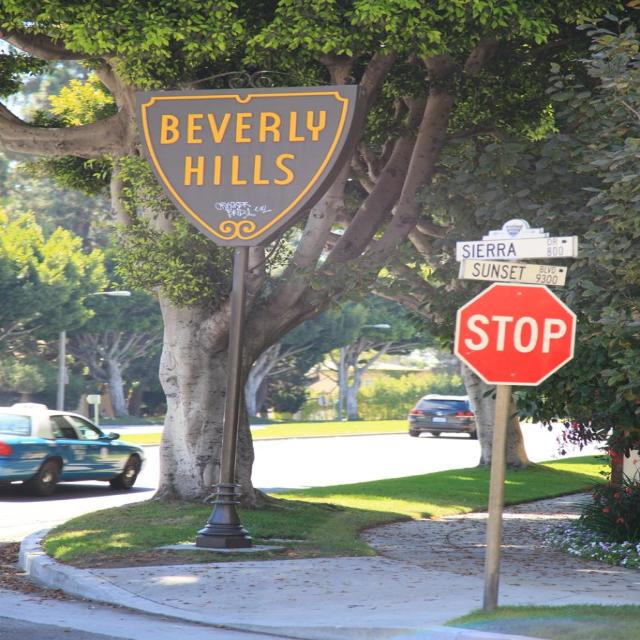Stop-sign: (452, 280, 578, 388)
